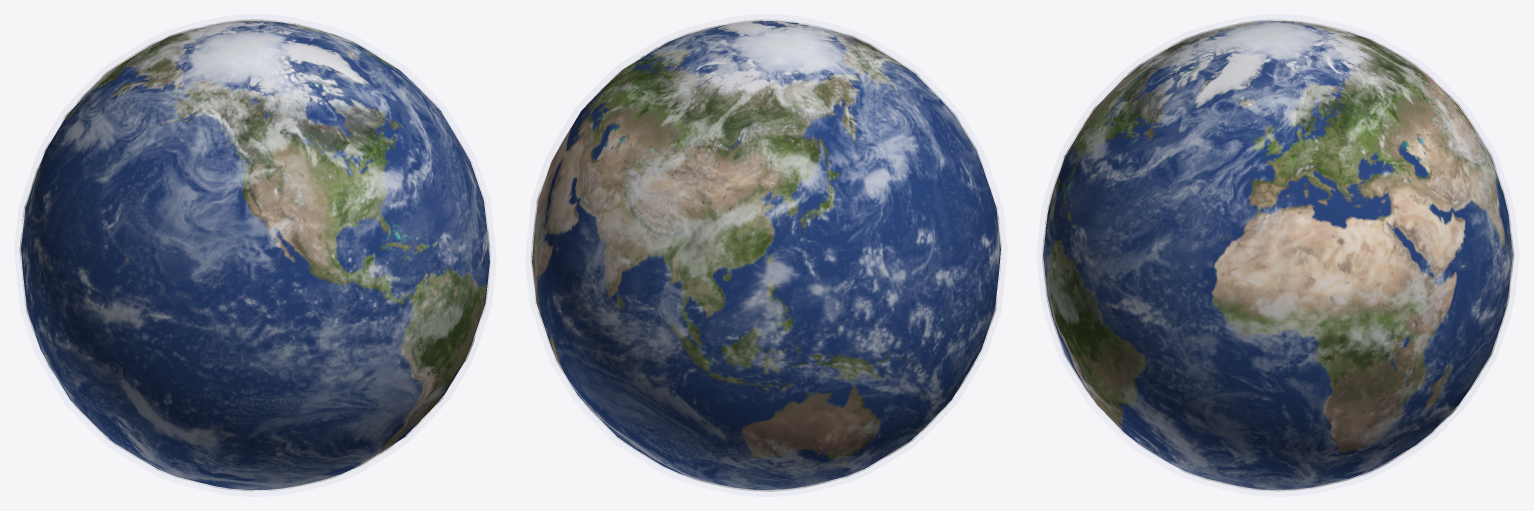
File: earth.glb
The picture shows the model from 3 angles, left to right: view 1: azimuth 30°, elevation 25°; view 2: azimuth 150°, elevation 25°; view 3: azimuth 270°, elevation 25°; orthographic projection.
Parts seen in each view (by area): view 1: Planet, Cloud; view 2: Planet, Cloud; view 3: Planet, Cloud.
Boxes of the visible parts, bbox=[...] form: Planet: bbox=[21, 20, 489, 490]; Cloud: bbox=[19, 19, 490, 491]; Planet: bbox=[532, 20, 1000, 490]; Cloud: bbox=[531, 19, 1001, 491]; Planet: bbox=[1043, 20, 1512, 489]; Cloud: bbox=[1042, 19, 1514, 491].
Bounding box in the file's own units: 2.06 × 2.06 × 2.06.
3 materials, 2 textured.
